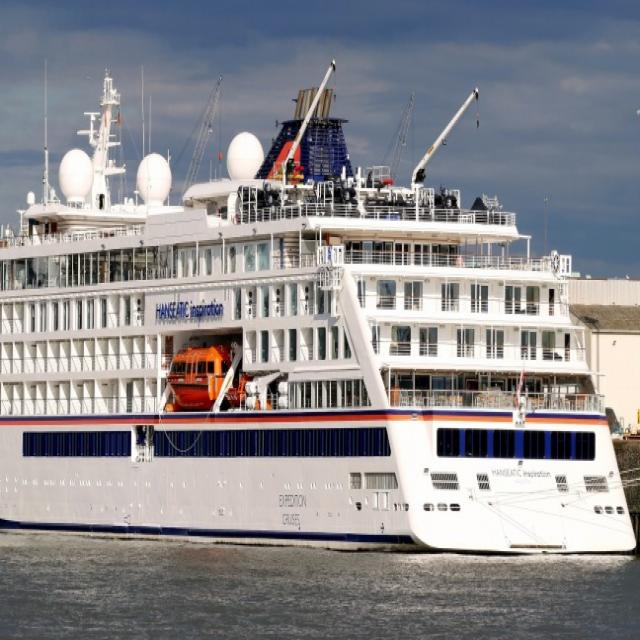cruises: (1, 58, 640, 572)
